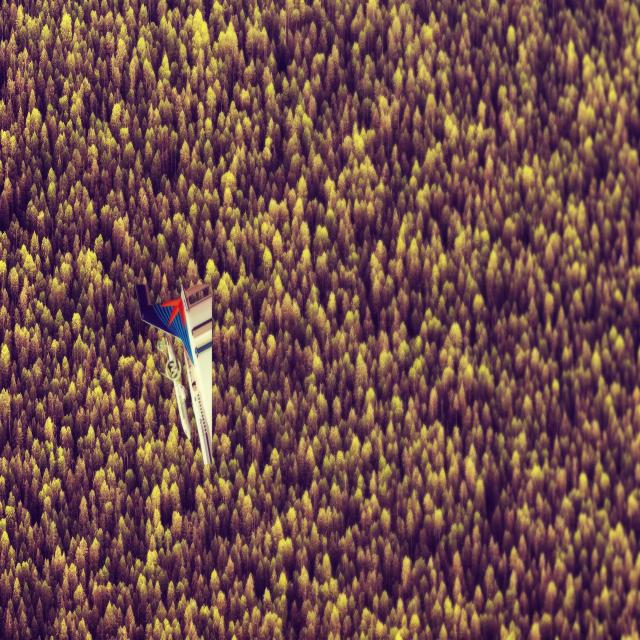airplane: (134, 280, 214, 468)
